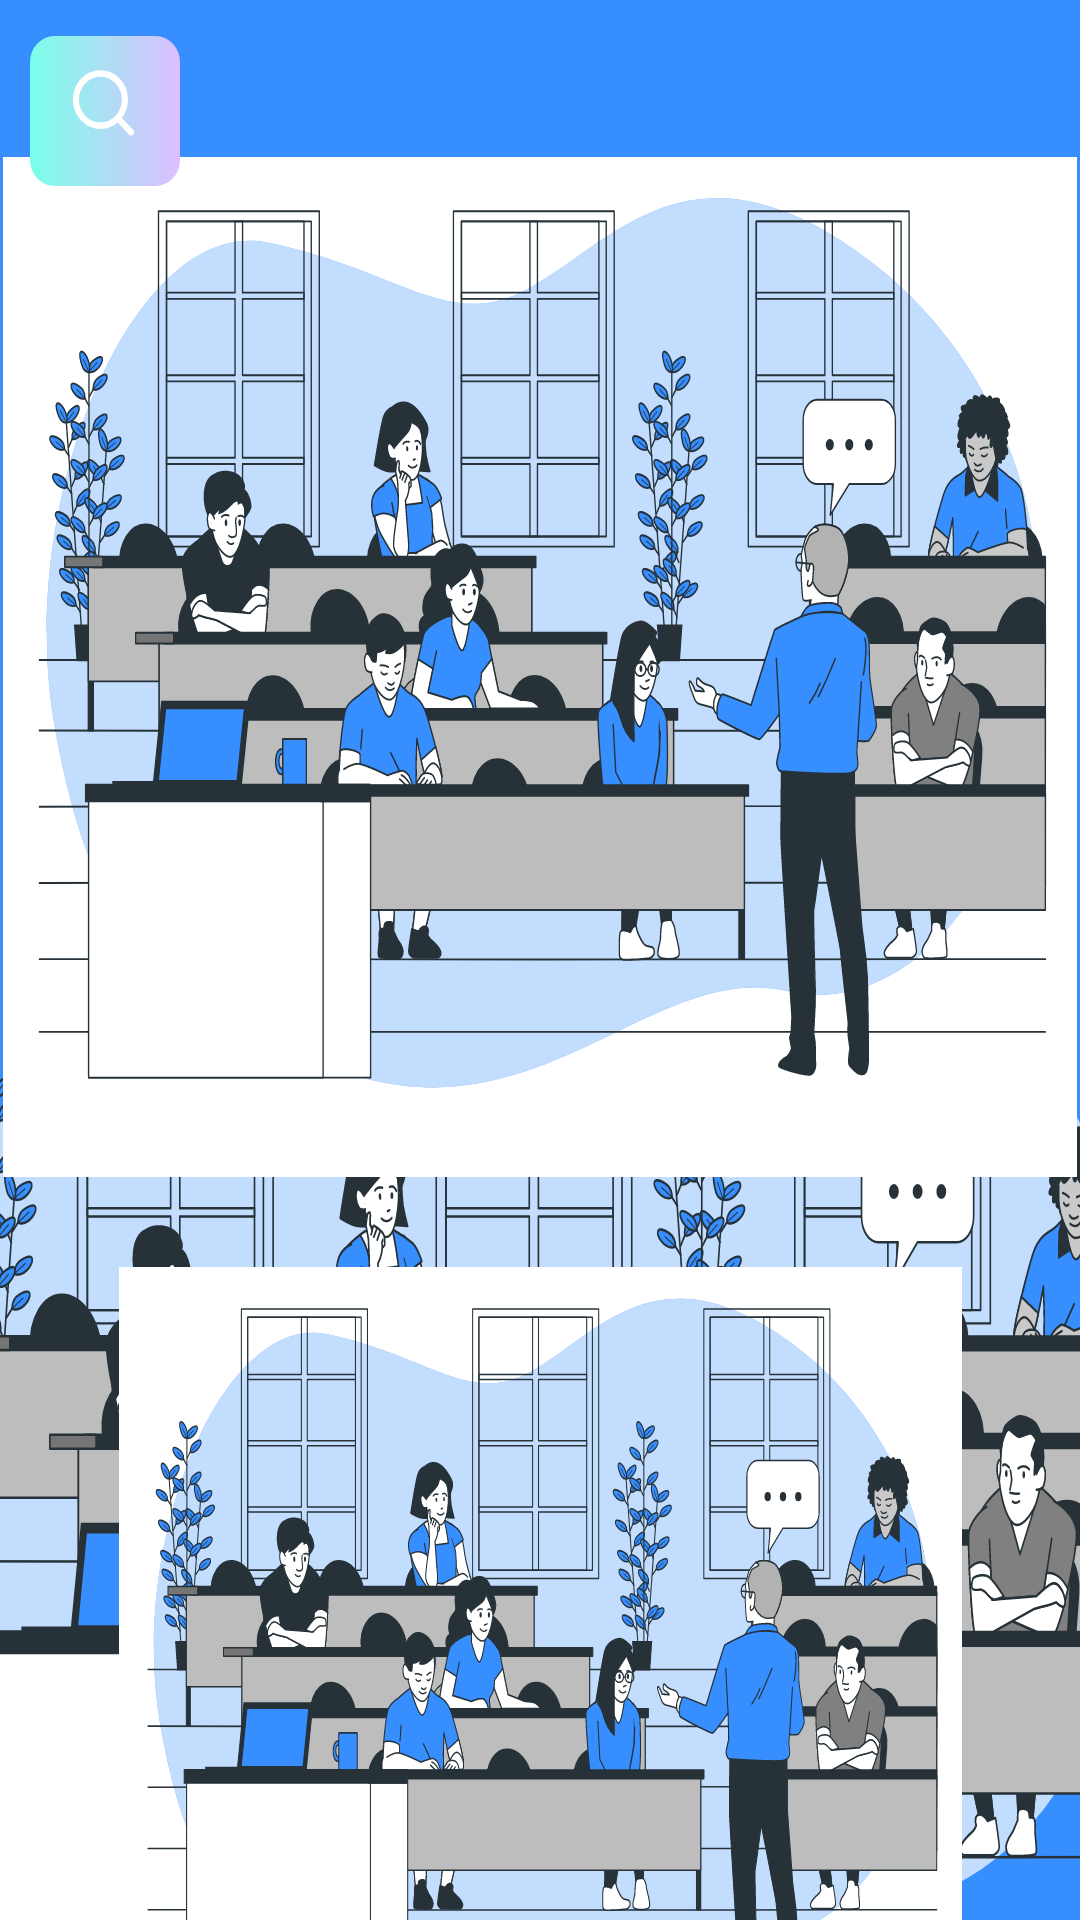

Icons on this 1080w x 1920h Android screen, each with its box as {"left": x1, "top": y1, "right": x2, "bottom": y2}:
searchmin: {"left": 30, "top": 36, "right": 180, "bottom": 186}
